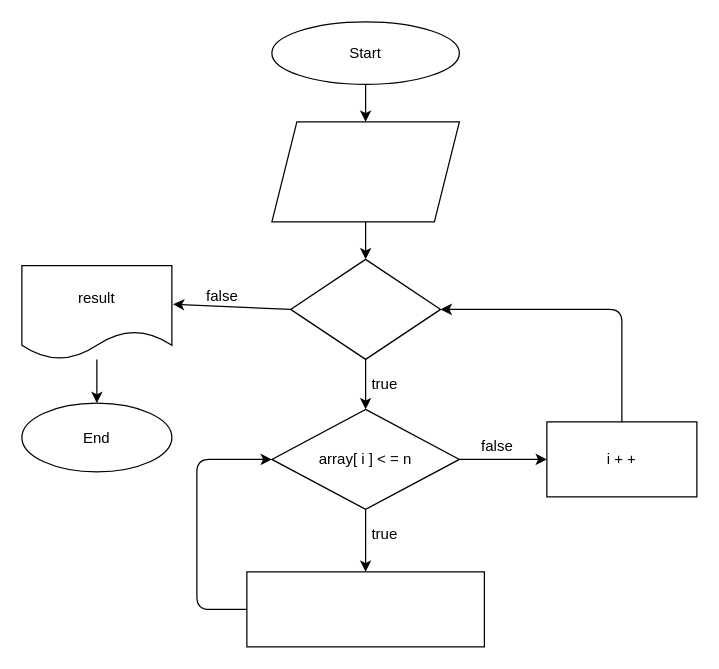
Image size: 719x669. Some labels were removed from this diagram. The shapes that lost their labels are listed below. From the top down, each one's centre as x and y in pixels, then its label:
At [365,171]: "string[ ] array string[ ] result i = 0 k = 0 n = 0".
At [365,308]: "i < array.Length".
At [365,609]: "resultArray[ k ] = array[ i ] k ++".
